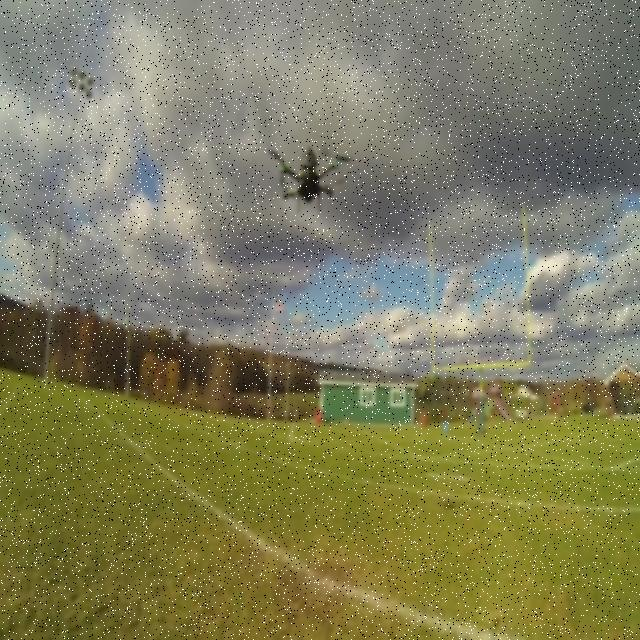UAV: (268, 146, 352, 216)
